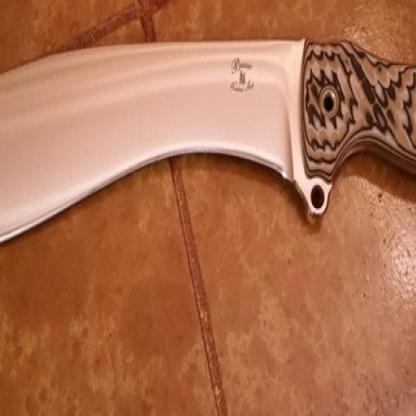knife: (0, 36, 415, 276), (0, 34, 415, 274)
